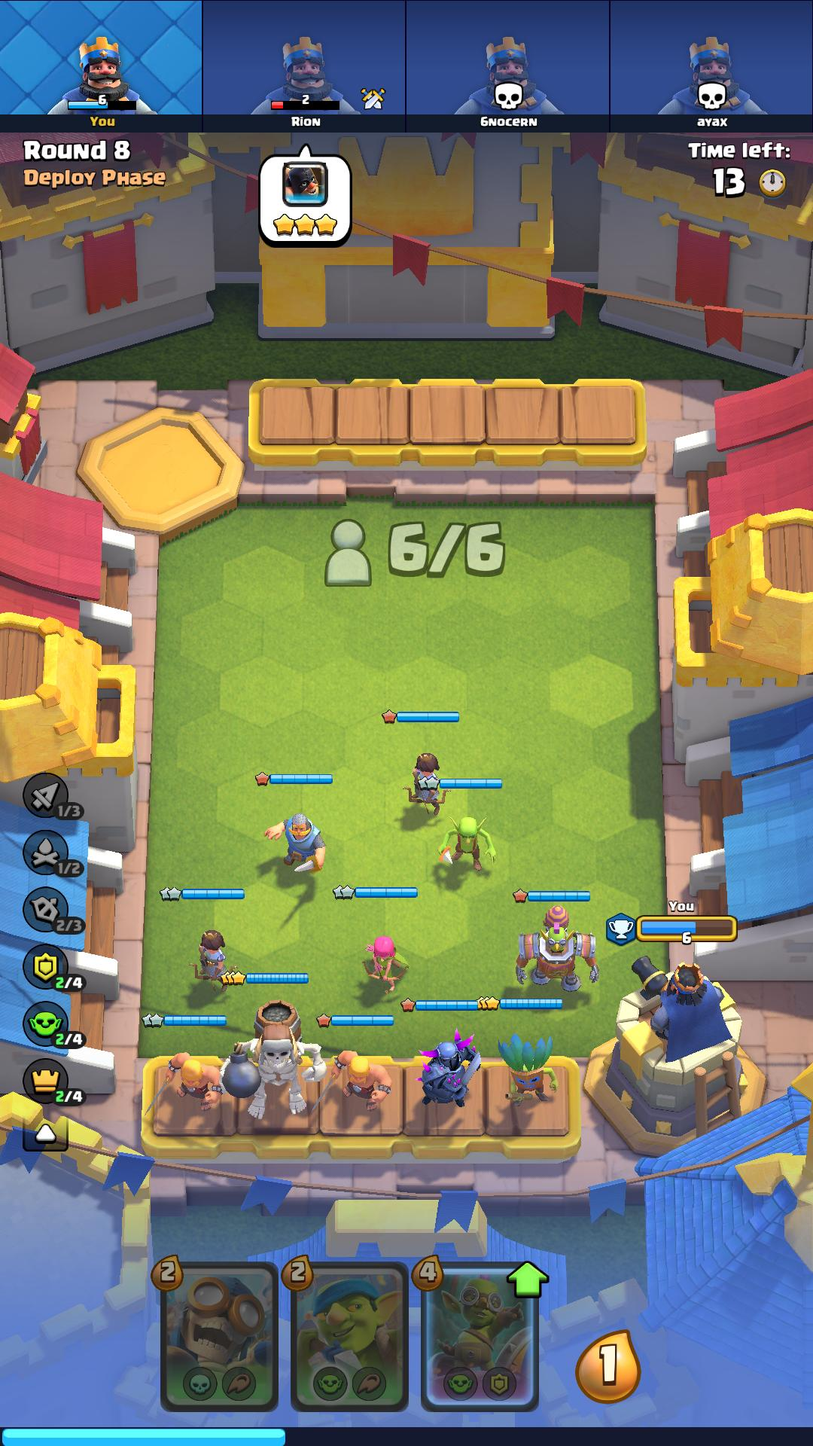archer: (354, 924, 415, 995)
barbarian: (327, 1042, 397, 1113), (145, 1047, 222, 1111)
dart: (493, 1029, 565, 1107)
giant: (220, 1000, 328, 1117)
goblin: (433, 806, 500, 882)
hand-bomber: (161, 1264, 277, 1412)
hand-machine: (424, 1262, 536, 1408)
hand-spear: (293, 1263, 406, 1404)
knight: (260, 810, 330, 875)
machine: (507, 903, 606, 992)
pekka: (410, 1026, 488, 1114)
princess: (183, 926, 234, 989), (402, 747, 448, 812)
upgrade: (505, 1257, 551, 1299)
